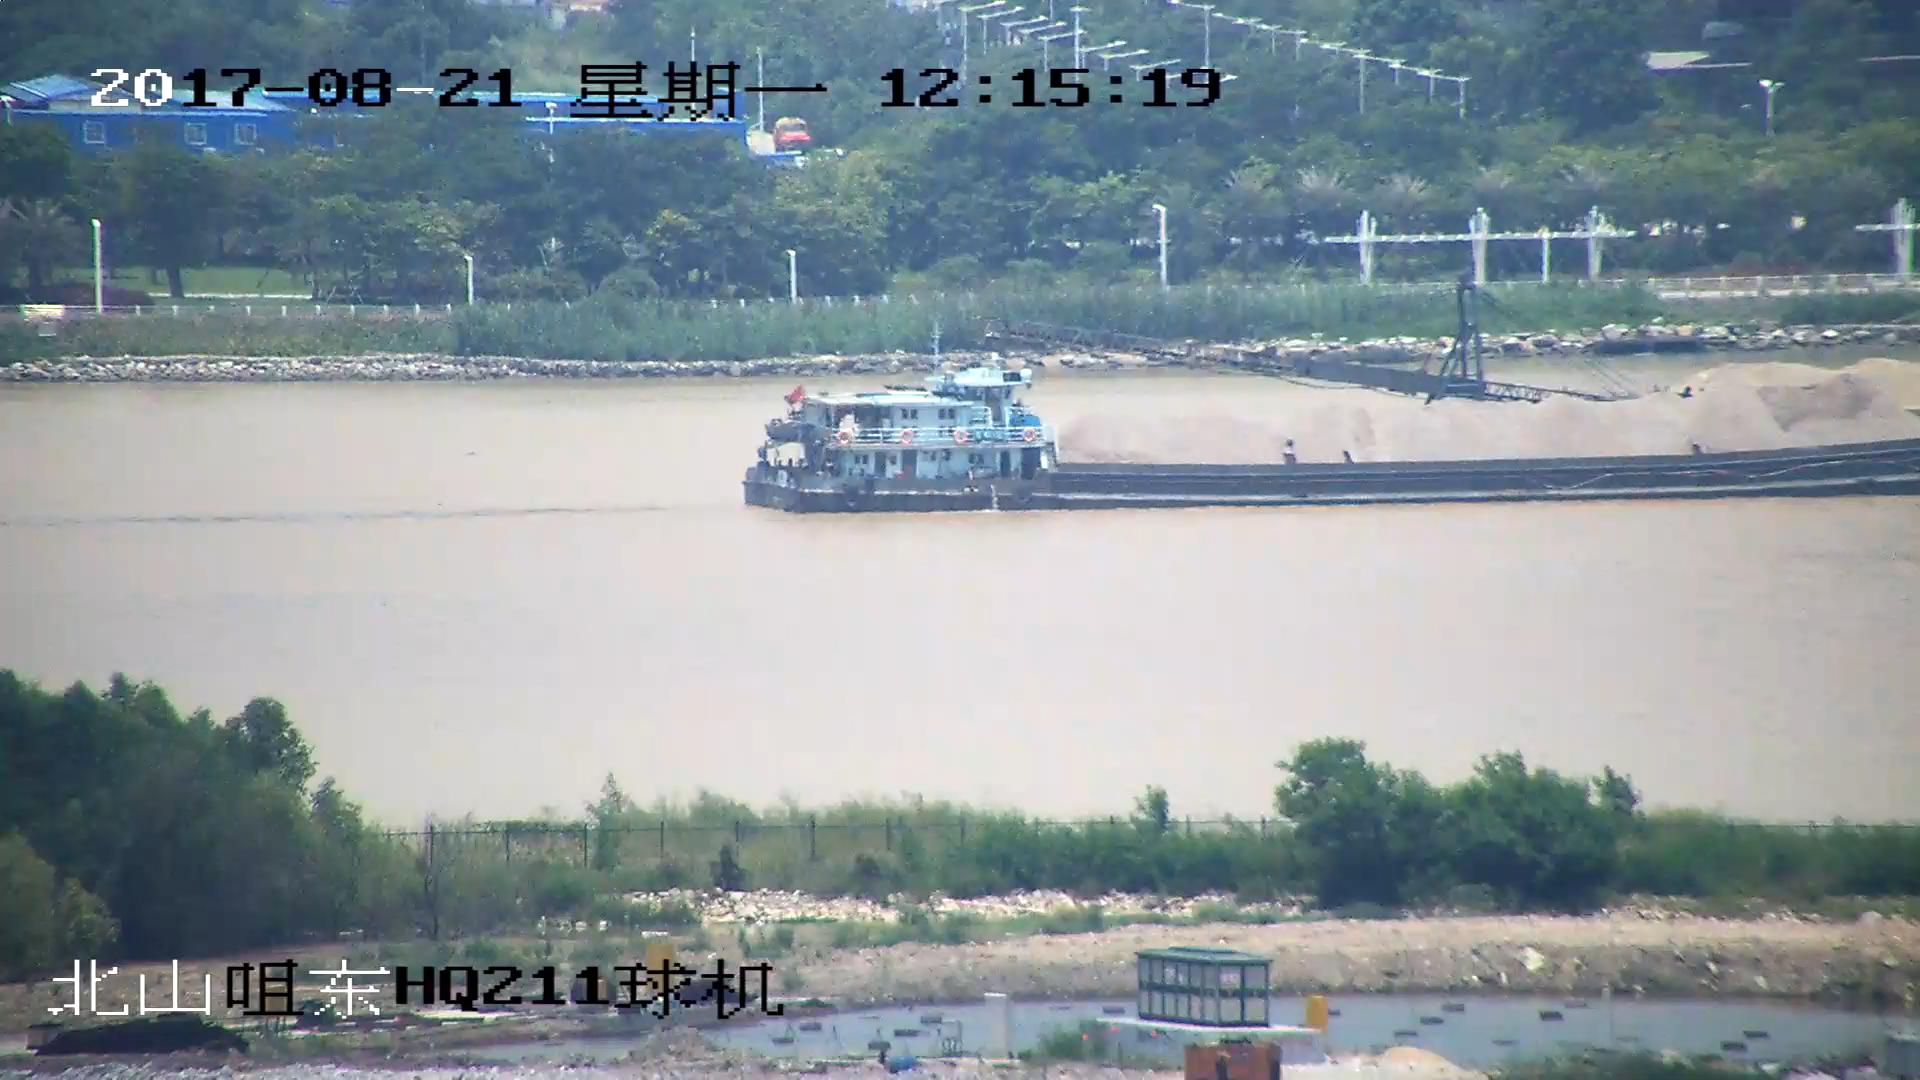ore carrier: (740, 370, 1919, 508), (993, 287, 1920, 428)
